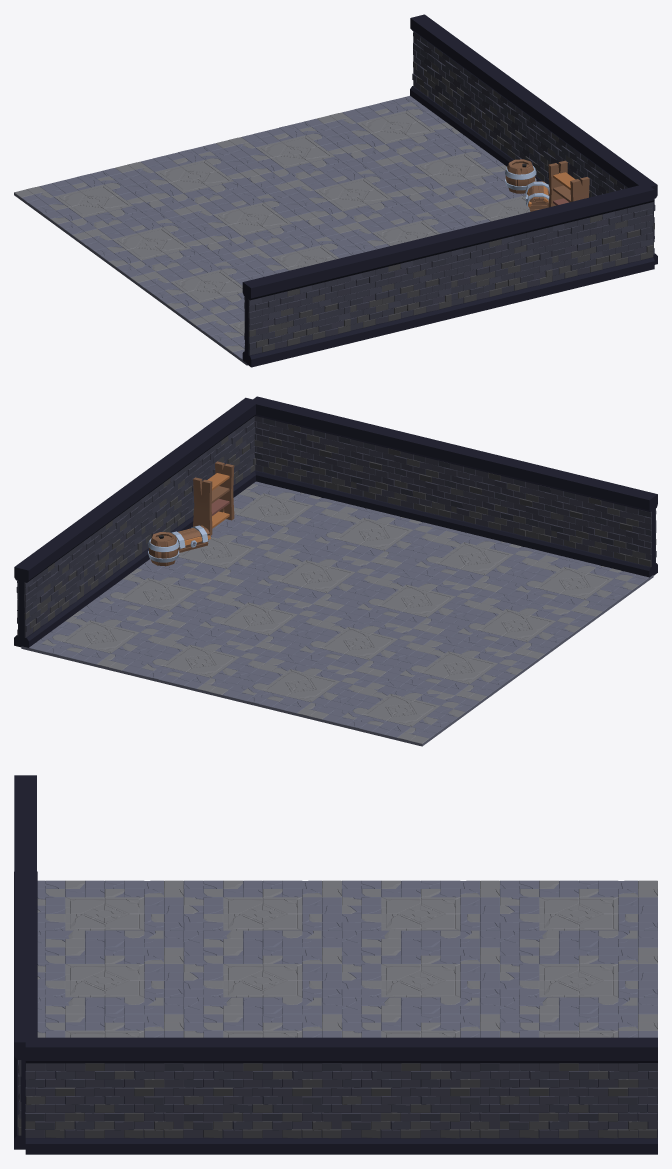
Rendered from dungeon.fbx.
3 renders of one model, top to bottom at view 1: azimuth 30°, elevation 25°; view 2: azimuth 150°, elevation 25°; view 3: azimuth 270°, elevation 25°, orthographic. The views are drawn at different scales.
Parts seen in each view (by area): view 1: 1-Wall_Large.007, 1-Wall_Large.006, 1-Wall_Large.003, 1-Wall_Large.005, 1-Floor_Large.006, 1-Floor_Large.003, 1-Floor_Large.001, 1-Floor_Large.005, 1-Floor_Large.004, 1-Floor_Large.007, 1-Wall_Large, 1-Floor_Large (+12 smaller); view 2: 1-Wall_Large.007, 1-Wall_Large.003, 1-Wall_Large.006, 1-Wall_Large.005, 1-Floor_Large.006, 1-Wall_Large, 1-Floor_Large.001, 1-Floor_Large.007, 1-Floor_Large.009, 1-Floor_Large.003, 1-Floor_Large.008, 1-Floor_Large.004 (+15 smaller); view 3: 1-Wall_Large.004, 1-Wall_Large.002, 1-Wall_Large.001, 1-Wall_Large, 1-Floor_Large.009, 1-Floor_Large.008, 1-Floor_Large.003, 1-Floor_Large.006, 1-Floor_Large.007, 1-Floor_Large.005, 1-Floor_Large.011, 1-Floor_Large.010 (+8 smaller).
Part boxes in pixels (box(x1,y1,x2,y2)): 1-Wall_Large.007: box(242, 257, 352, 367); 1-Wall_Large.006: box(344, 233, 452, 342); 1-Wall_Large.003: box(445, 208, 553, 318); 1-Wall_Large.005: box(546, 184, 654, 293); 1-Floor_Large.006: box(14, 168, 172, 237); 1-Floor_Large.003: box(72, 210, 230, 279); 1-Floor_Large.001: box(216, 118, 374, 185); 1-Floor_Large.005: box(173, 186, 331, 252); 1-Floor_Large.004: box(274, 161, 432, 228); 1-Floor_Large.007: box(115, 143, 273, 210); 1-Wall_Large: box(410, 14, 482, 137); 1-Floor_Large: box(317, 96, 467, 160); 1-Wall_Large.007: box(549, 470, 657, 577); 1-Wall_Large.003: box(348, 421, 456, 528); 1-Wall_Large.006: box(449, 445, 557, 552); 1-Wall_Large.005: box(250, 396, 356, 503); 1-Floor_Large.006: box(322, 677, 479, 746); 1-Wall_Large: box(14, 524, 86, 647); 1-Floor_Large.001: box(121, 628, 278, 697); 1-Floor_Large.007: box(222, 652, 379, 721); 1-Floor_Large.009: box(438, 592, 595, 661); 1-Floor_Large.003: box(380, 635, 537, 703); 1-Floor_Large.008: box(338, 568, 495, 634); 1-Floor_Large.004: box(180, 586, 336, 652); 1-Wall_Large.004: box(25, 1037, 183, 1154); 1-Wall_Large.002: box(183, 1037, 341, 1154); 1-Wall_Large.001: box(341, 1037, 499, 1154); 1-Wall_Large: box(499, 1037, 657, 1154); 1-Floor_Large.009: box(183, 880, 341, 947); 1-Floor_Large.008: box(183, 947, 341, 1014); 1-Floor_Large.003: box(342, 880, 499, 947); 1-Floor_Large.006: box(500, 880, 657, 947); 1-Floor_Large.007: box(500, 947, 657, 1014); 1-Floor_Large.005: box(342, 947, 499, 1014); 1-Floor_Large.011: box(37, 880, 183, 947); 1-Floor_Large.010: box(37, 947, 183, 1014).
Bounding box in the file's own units: 3260 × 610 × 3260.
